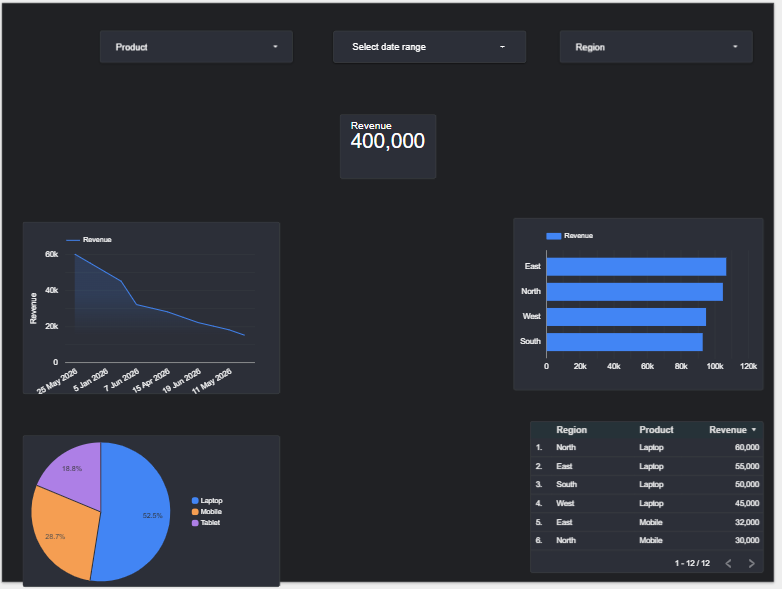

Layout of this report page (visuals, bound fields, positions):
{"tool":"powerbi","page":{"name":"Overview","canvas":[1920,1080],"ordinal":0},"visuals":[{"type":"cardVisual","fields":{"Data":["sales_data.Total Sales"],"Rows":["sales_data.Sales"]},"box":[161.4,798.6,358.6,220],"z":0},{"type":"cardVisual","fields":{"Data":["sales_data.Total Orders"]},"box":[1280,402.9,395.7,337.1],"z":1000},{"type":"cardVisual","fields":{"Data":["sales_data.Average Order Value"]},"box":[161.4,395.7,421.4,344.3],"z":2000},{"type":"clusteredBarChart","fields":{"Category":["sales_data.Region"],"Y":["Sum(sales_data.Sales)"]},"box":[654.3,471.4,512.9,281.4],"z":2001},{"type":"slicer","fields":{"Values":["sales_data.Region"]},"box":[680,208.6,462.9,331.4],"z":2002},{"type":"slicer","fields":{"Values":["sales_data.Category"]},"box":[1264.3,187.1,384.3,330],"z":2003},{"type":"slicer","fields":{"Values":["sales_data.Date"]},"box":[212.9,144.3,320,317.1],"z":2004},{"type":"textbox","box":[640,44.3,624.3,284.3],"z":2005}]}

Visuals, with their boxes on the page's 1920x1080 design canvas (x1, y1, x2, y2). These are canvas units, not pixel positions in the 782x589 screenshot, which may show the page scaled, cropped or inside an application window:
cardVisual - sales_data.Total Sales x sales_data.Sales: crop(161, 799, 520, 1019)
cardVisual - sales_data.Total Orders: crop(1280, 403, 1676, 740)
cardVisual - sales_data.Average Order Value: crop(161, 396, 583, 740)
clusteredBarChart - sales_data.Region x Sum(sales_data.Sales): crop(654, 471, 1167, 753)
slicer - sales_data.Region: crop(680, 209, 1143, 540)
slicer - sales_data.Category: crop(1264, 187, 1649, 517)
slicer - sales_data.Date: crop(213, 144, 533, 461)
textbox: crop(640, 44, 1264, 329)
